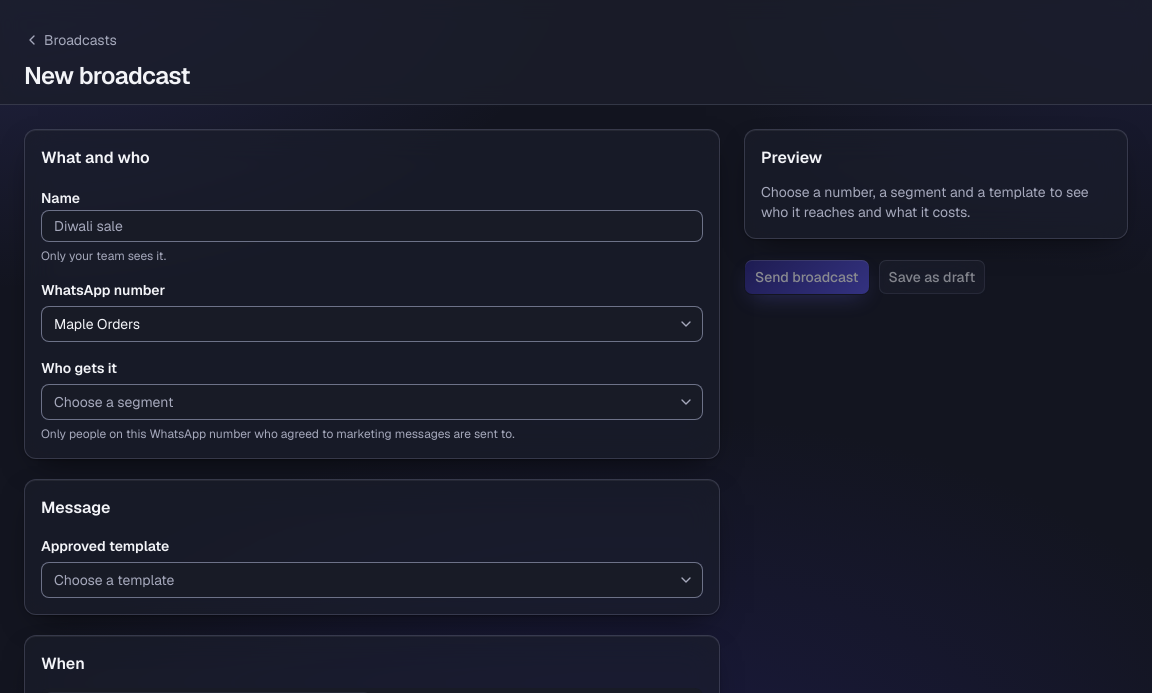
Test: the broadcast composer (GR-23) › offers approved templates but never authentication ones, and one row per variable
What coordinates should you click on to do the following:
click the dropdown labelled "template"
I would click on:
 (114, 580)
Its box is [41,562,703,598].
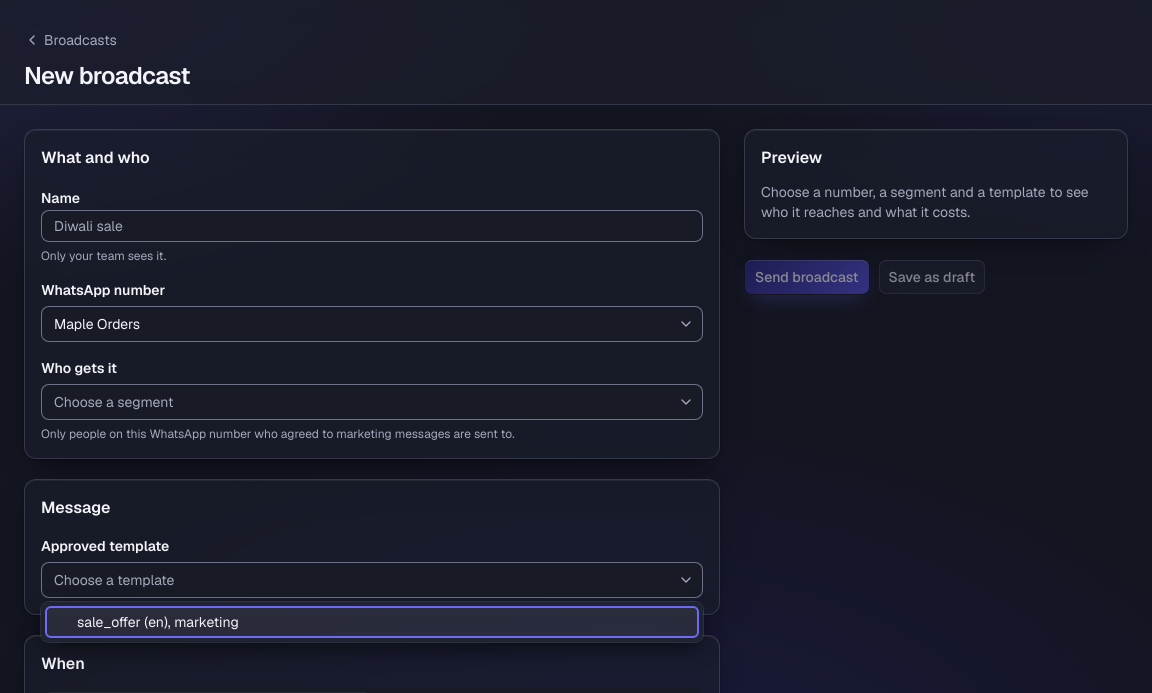
Check: the option "sale_offer (en), marketing" is shown
What coordinates should you click on to do the following:
click the option "sale_offer (en), marketing"
I would click on:
 (109, 622)
Its box is [45,606,699,638].
(page scrolled)
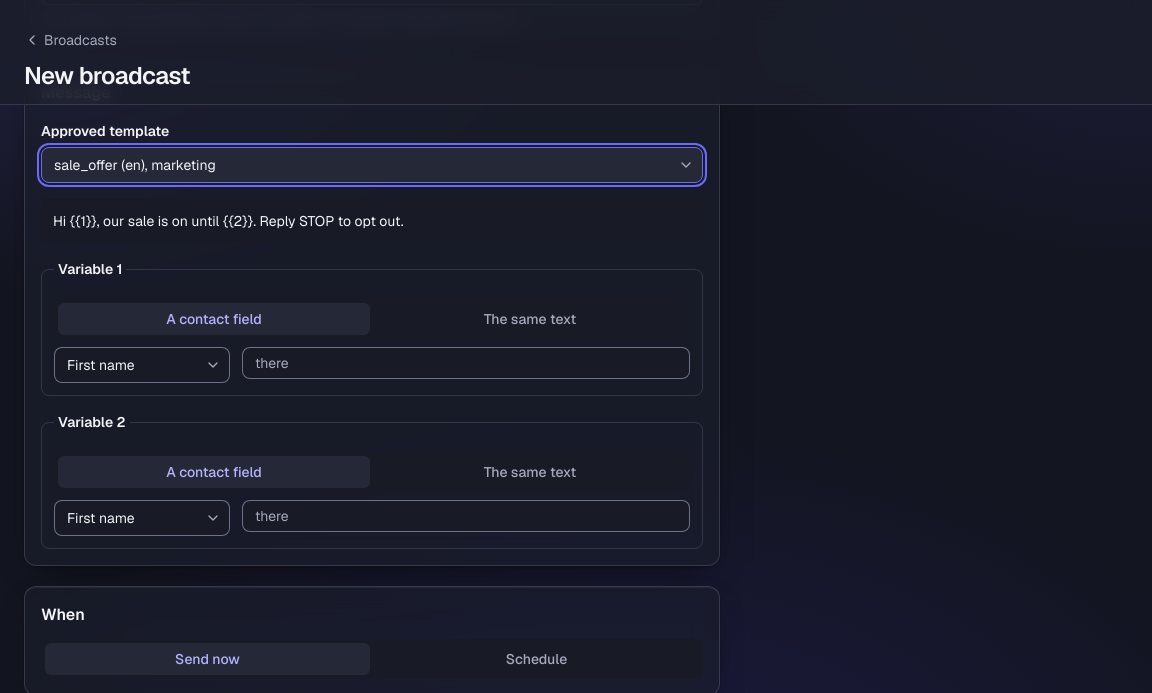
Check: the text with test id "template-body" shows "Hi {{1}}, our sale is on until {{2}}.", box [53,212,404,230]
Check: the text "Variable 1" is shown, box [54,259,126,279]
Check: the text "Variable 2" is shown, box [54,412,130,432]
